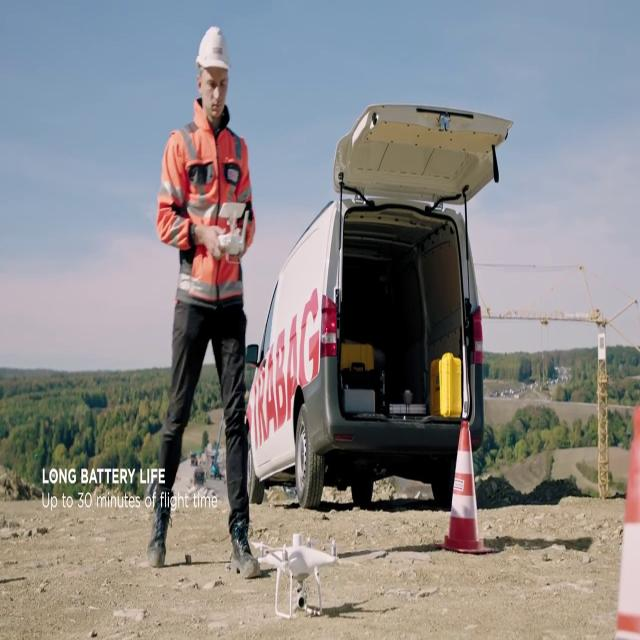drone: (252, 532, 344, 614)
